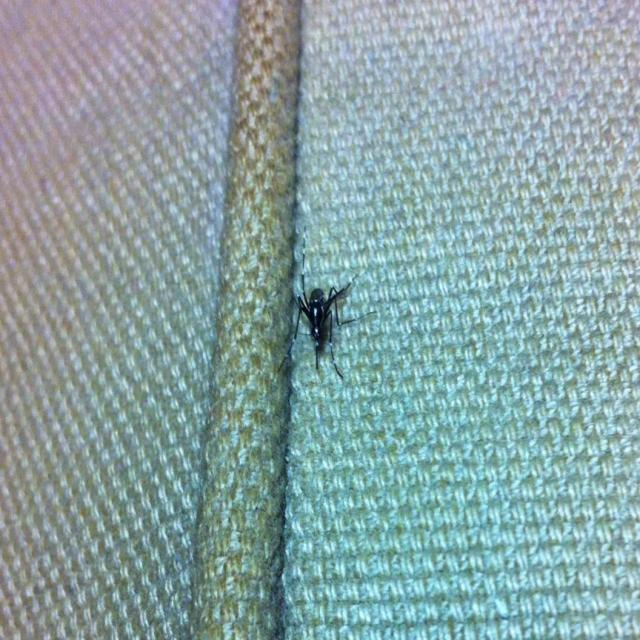albopictus: (271, 221, 382, 397)
